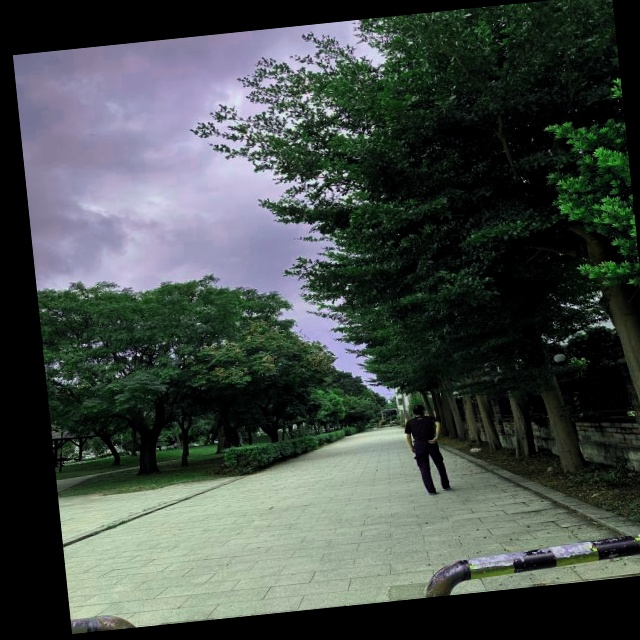Sin_Casco_Mascarrilla: (412, 404, 426, 417)
Sin_Chaleco: (408, 415, 437, 441)
